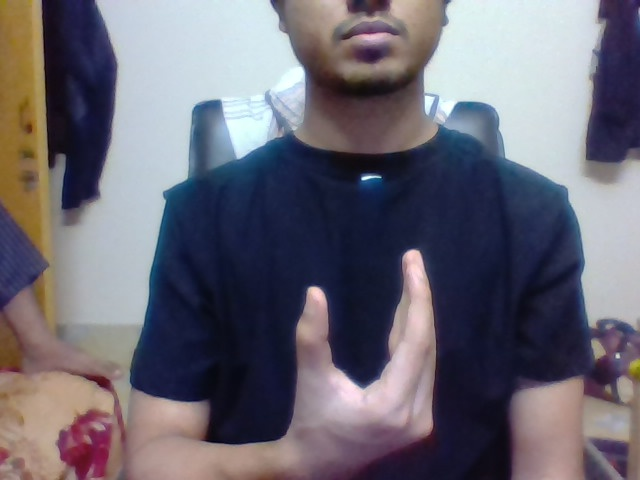U: (283, 237, 446, 418)
